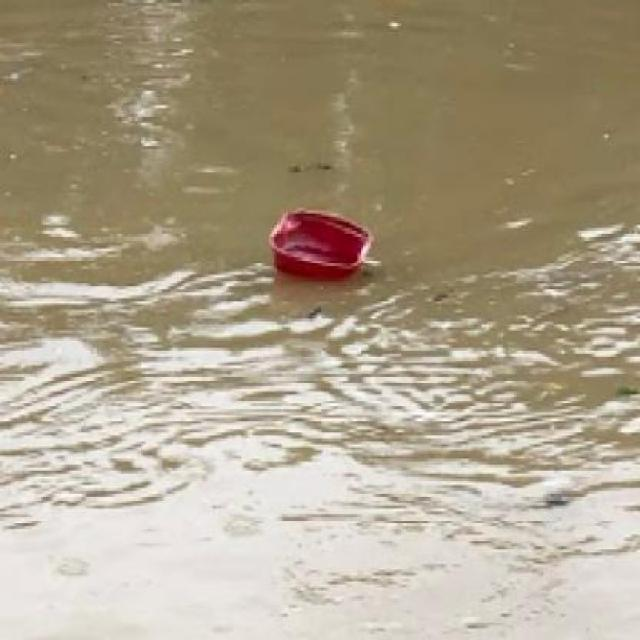Plastic cup: (266, 202, 381, 289)
